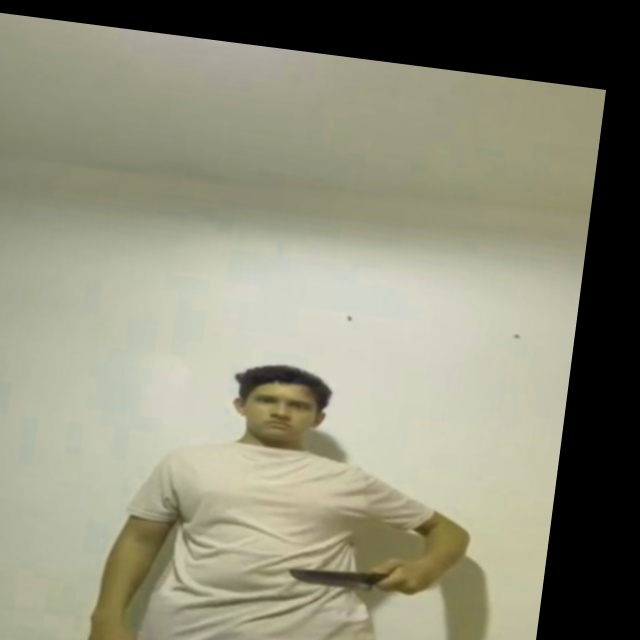Sharp-Object: (290, 563, 369, 593)
